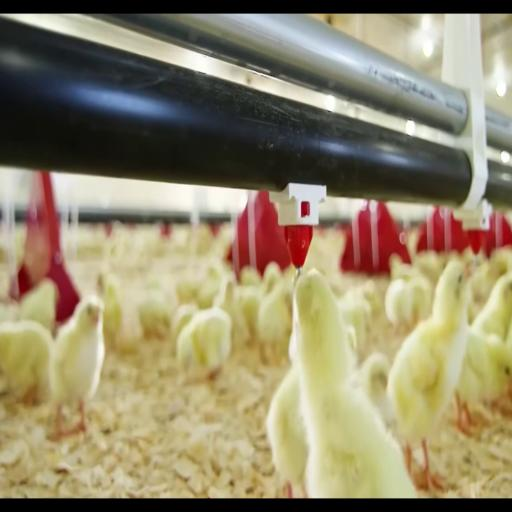chick: (295, 271, 416, 498), (388, 262, 468, 488), (50, 296, 105, 439), (456, 327, 511, 435), (266, 364, 307, 498), (0, 320, 53, 405), (177, 307, 232, 378), (356, 352, 394, 427), (385, 275, 433, 332), (257, 282, 291, 362), (472, 273, 511, 341), (214, 275, 250, 347), (18, 279, 58, 332), (339, 297, 371, 360), (97, 272, 122, 346), (138, 288, 171, 338), (385, 279, 413, 333), (196, 259, 226, 309), (344, 280, 381, 315), (238, 286, 262, 338), (171, 304, 198, 347), (470, 262, 499, 302), (410, 275, 433, 323), (413, 250, 444, 284), (389, 254, 420, 281), (176, 273, 201, 303), (359, 280, 381, 314), (262, 262, 282, 294), (489, 247, 511, 275), (346, 326, 357, 369), (240, 266, 261, 286), (0, 303, 17, 323)
